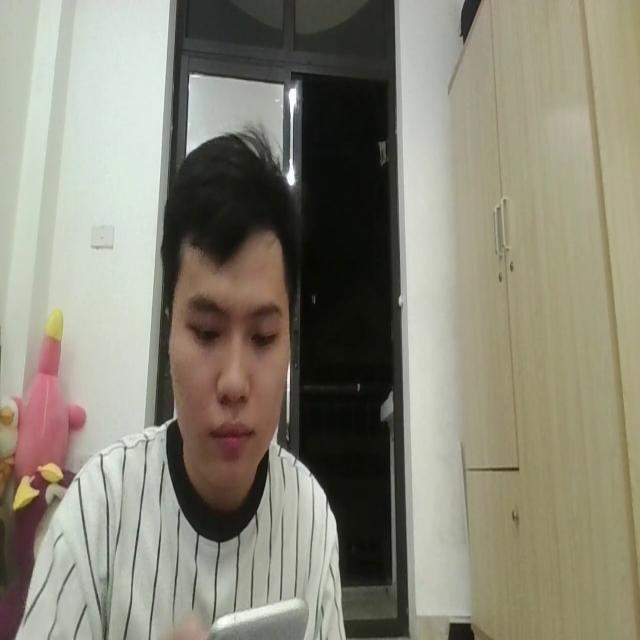phone: (211, 591, 309, 640)
student: (19, 126, 342, 640)
